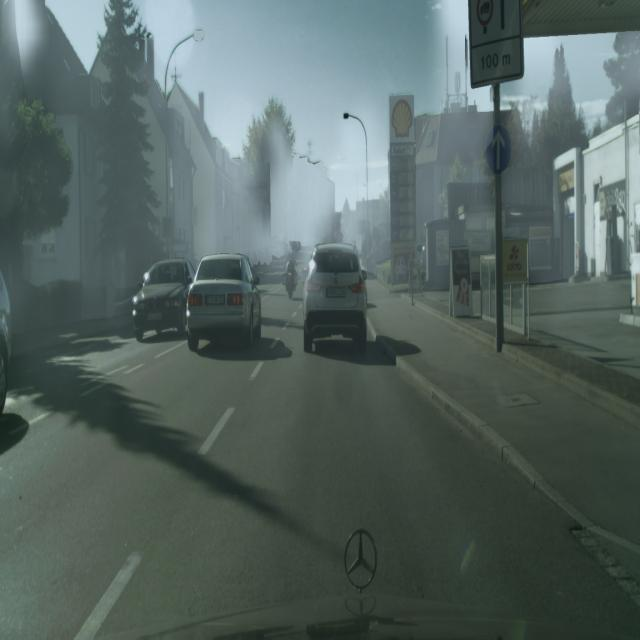bus: (303, 242, 371, 352), (188, 250, 263, 349), (132, 257, 194, 345), (0, 262, 13, 422)
truck: (281, 240, 299, 301)
